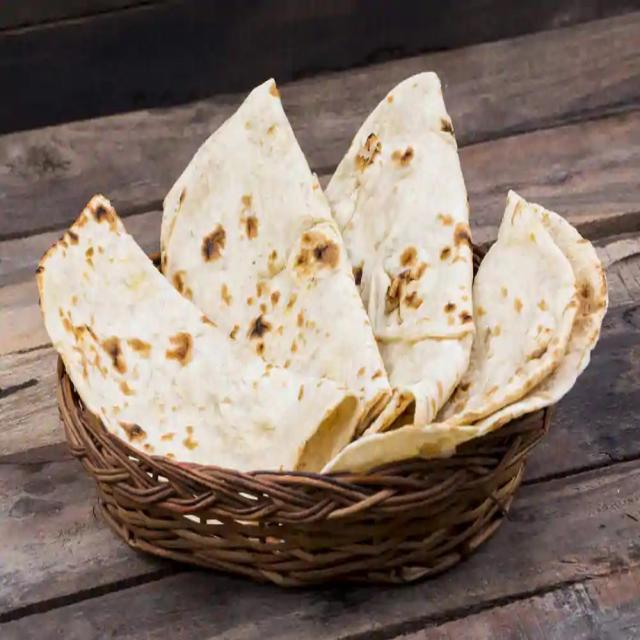Chapathi: (45, 53, 620, 492)
